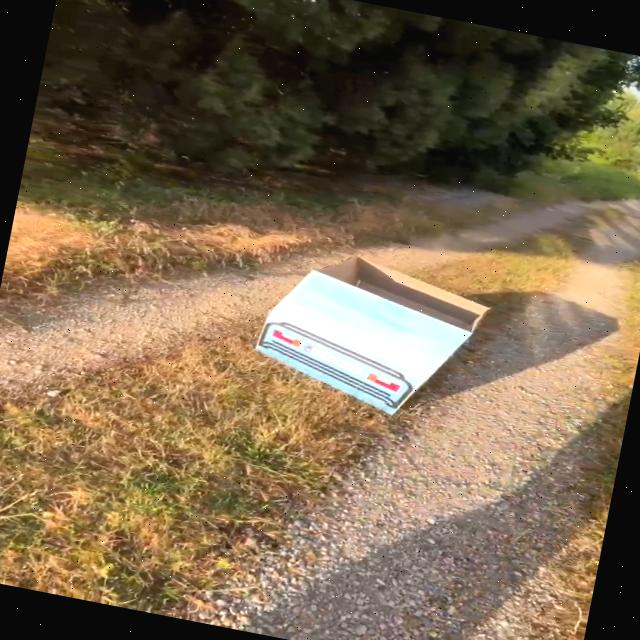blue_car: (185, 189, 559, 459)
